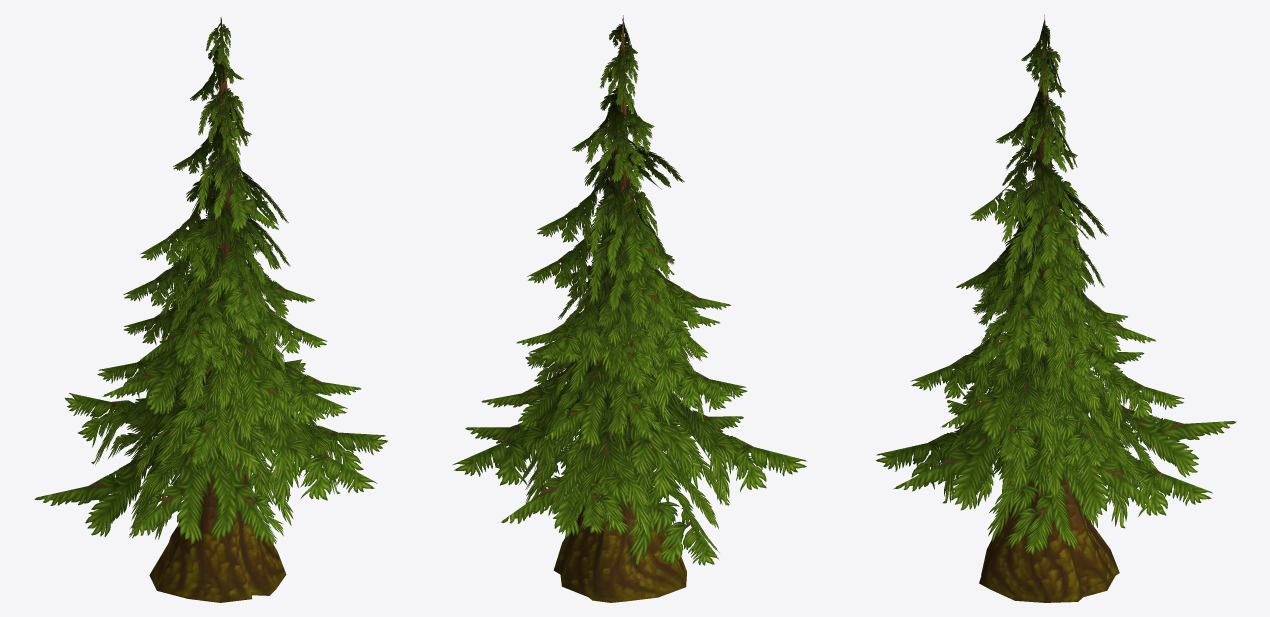
Rendered from pinetree01.fbx.
3 views of the same model, side by side, from view 1: azimuth 30°, elevation 25°; view 2: azimuth 150°, elevation 25°; view 3: azimuth 270°, elevation 25° (orthographic).
Parts seen in each view (by area): view 1: pinetree_1_branches, pinetree_1_trunk; view 2: pinetree_1_branches, pinetree_1_trunk; view 3: pinetree_1_branches, pinetree_1_trunk.
Boxes of the visible parts, bbox=[...] form: pinetree_1_branches: bbox=[35, 19, 387, 545]; pinetree_1_trunk: bbox=[149, 17, 286, 602]; pinetree_1_branches: bbox=[452, 19, 806, 566]; pinetree_1_trunk: bbox=[553, 15, 686, 602]; pinetree_1_branches: bbox=[875, 19, 1236, 554]; pinetree_1_trunk: bbox=[979, 15, 1119, 602].
Size of the model in its own units: 12.92 by 20.7 by 13.3.
